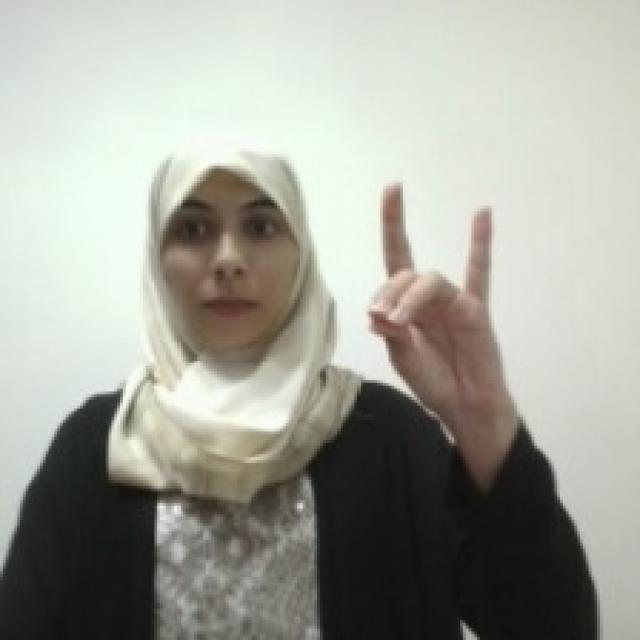Dog: (359, 175, 502, 412)
